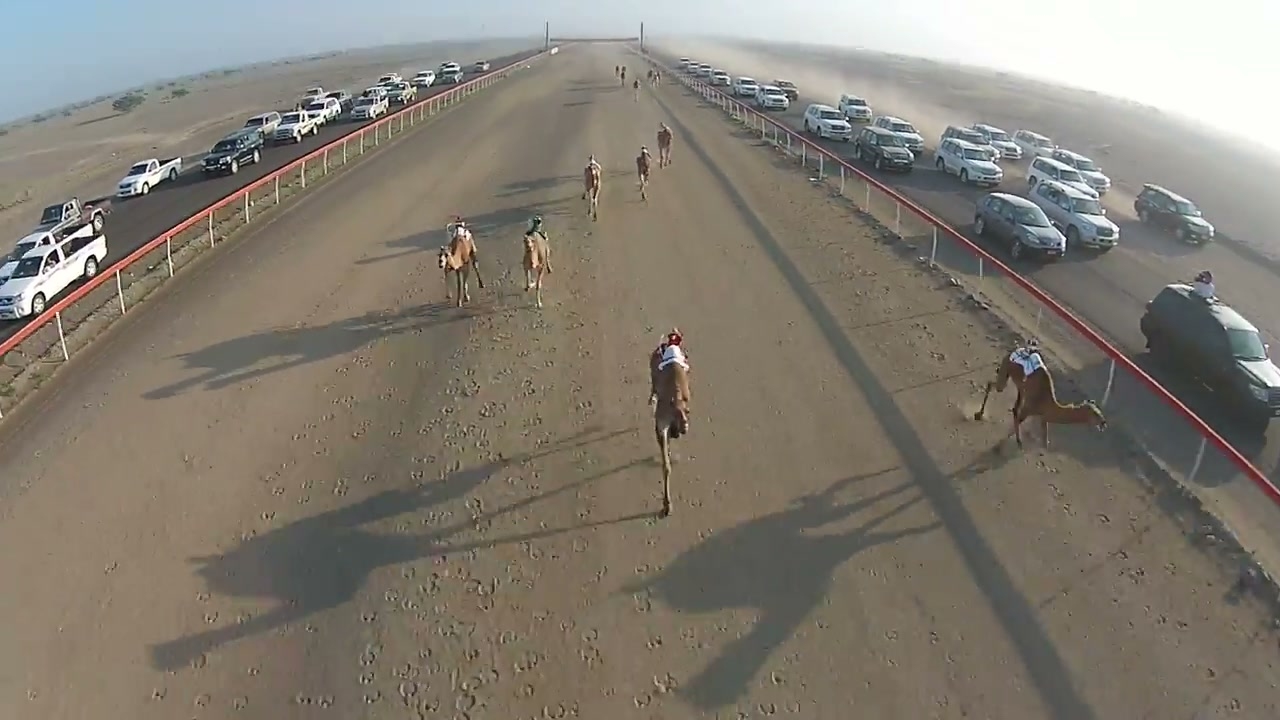animal_foot_print: (358, 302, 524, 695)
